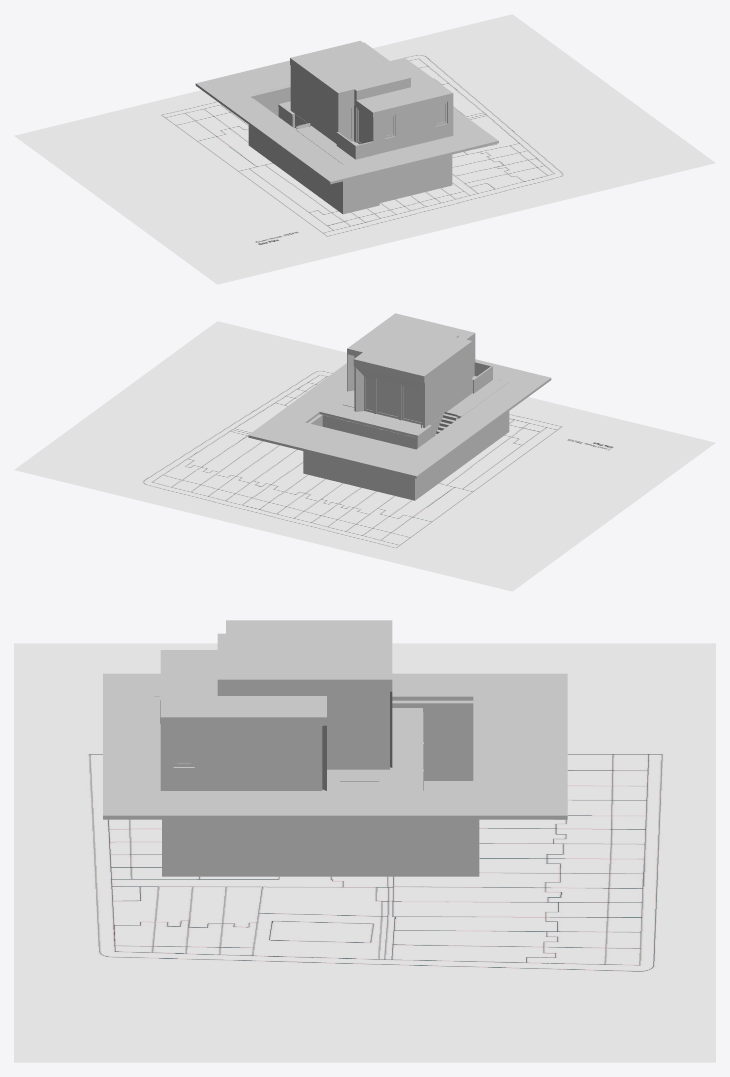
File: CDM.obj
3 renders of one model, top to bottom at view 1: azimuth 30°, elevation 25°; view 2: azimuth 150°, elevation 25°; view 3: azimuth 270°, elevation 25°, orthographic. The views are drawn at different scales.
Bounding box in the file's own units: 1651 × 323 × 1167.
Materials: 2 (1 with a texture image).
